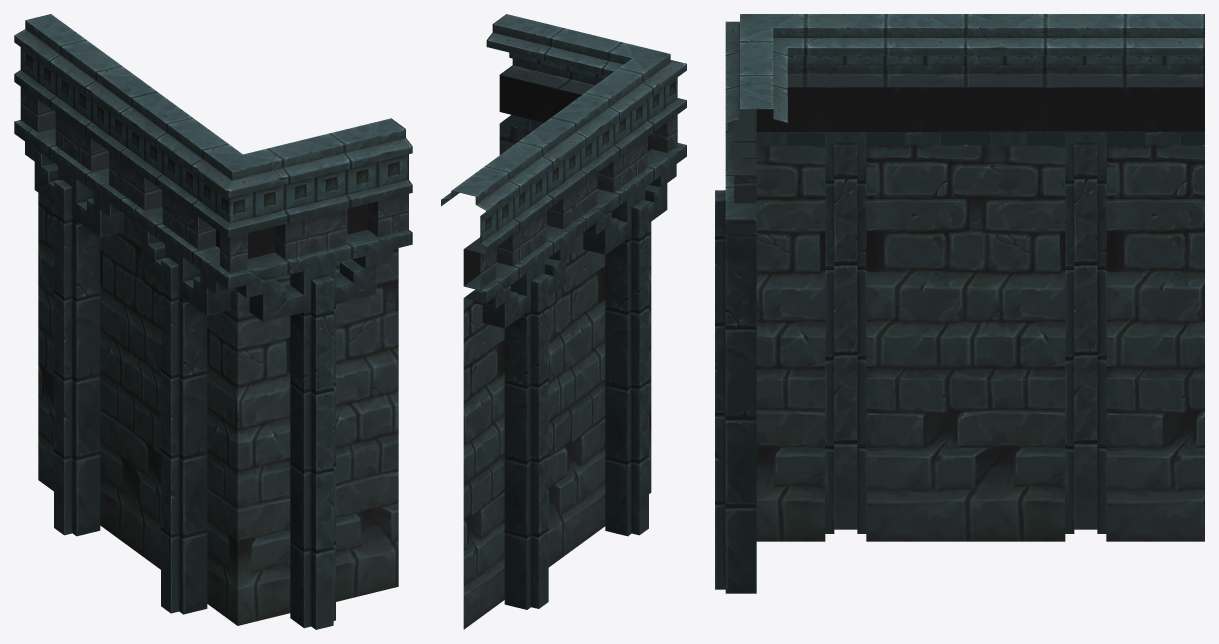
File: Stage_DiXiaCheng_DiMianBaoBian06.FBX
The picture shows the model from 3 angles, left to right: view 1: azimuth 30°, elevation 25°; view 2: azimuth 150°, elevation 25°; view 3: azimuth 270°, elevation 25°; orthographic projection. The views are drawn at different scales.
Visible parts, largest first — view 1: Stage_DiXiaCheng_DiMianBaoBian06; view 2: Stage_DiXiaCheng_DiMianBaoBian06; view 3: Stage_DiXiaCheng_DiMianBaoBian06.
Boxes of the visible parts, x1=… form: Stage_DiXiaCheng_DiMianBaoBian06: x1=14, y1=14, x2=412, y2=629; Stage_DiXiaCheng_DiMianBaoBian06: x1=441, y1=14, x2=686, y2=629; Stage_DiXiaCheng_DiMianBaoBian06: x1=715, y1=14, x2=1204, y2=593.
Size of the model in its own units: 630 by 1458 by 1230.
